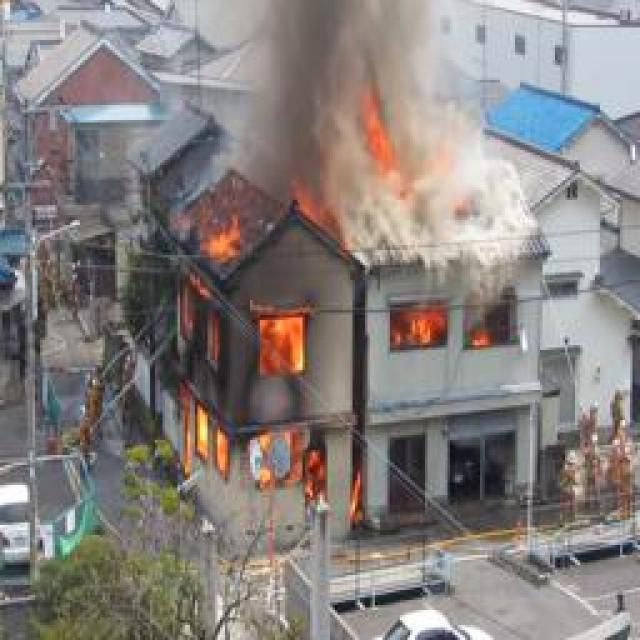Fire: (172, 192, 336, 495), (356, 93, 459, 181), (399, 304, 494, 348)
